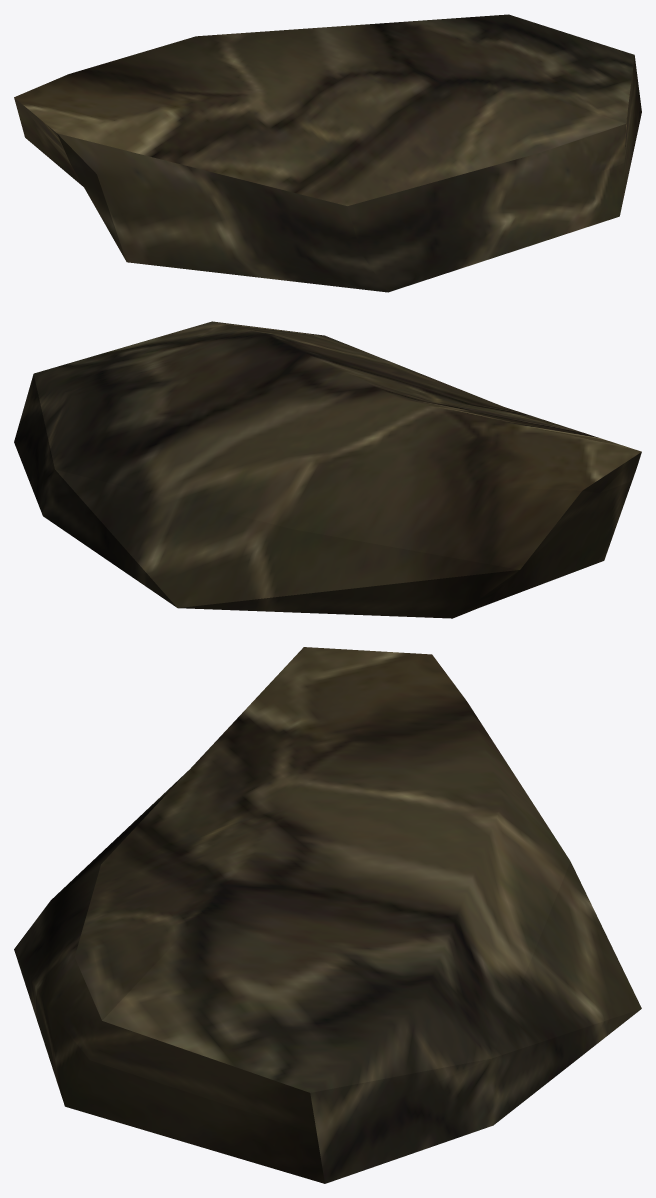
File: D_shitou004.fbx
3 views of the same model, one above another, from view 1: azimuth 30°, elevation 25°; view 2: azimuth 150°, elevation 25°; view 3: azimuth 270°, elevation 25° (orthographic). The views are drawn at different scales.
Visible parts, largest first — view 1: D_shitou004; view 2: D_shitou004; view 3: D_shitou004.
Boxes of the visible parts, x1,y1,x2,y2 form: D_shitou004: (14, 14, 641, 292); D_shitou004: (14, 321, 641, 618); D_shitou004: (14, 647, 641, 1183).
Bounding box in the file's own units: 197 × 41.11 × 141.
